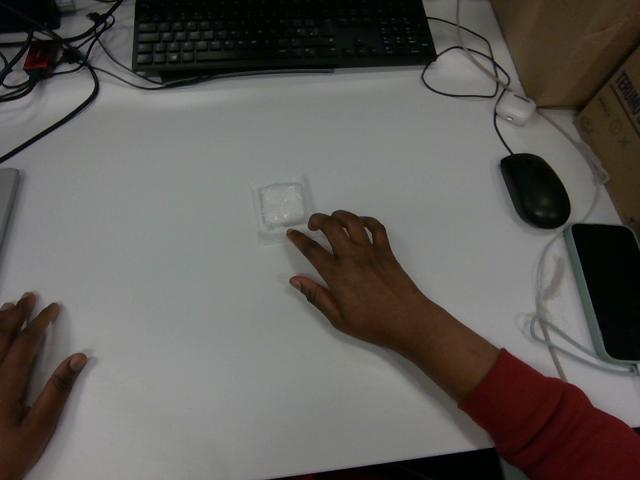gauze: (251, 176, 313, 244)
